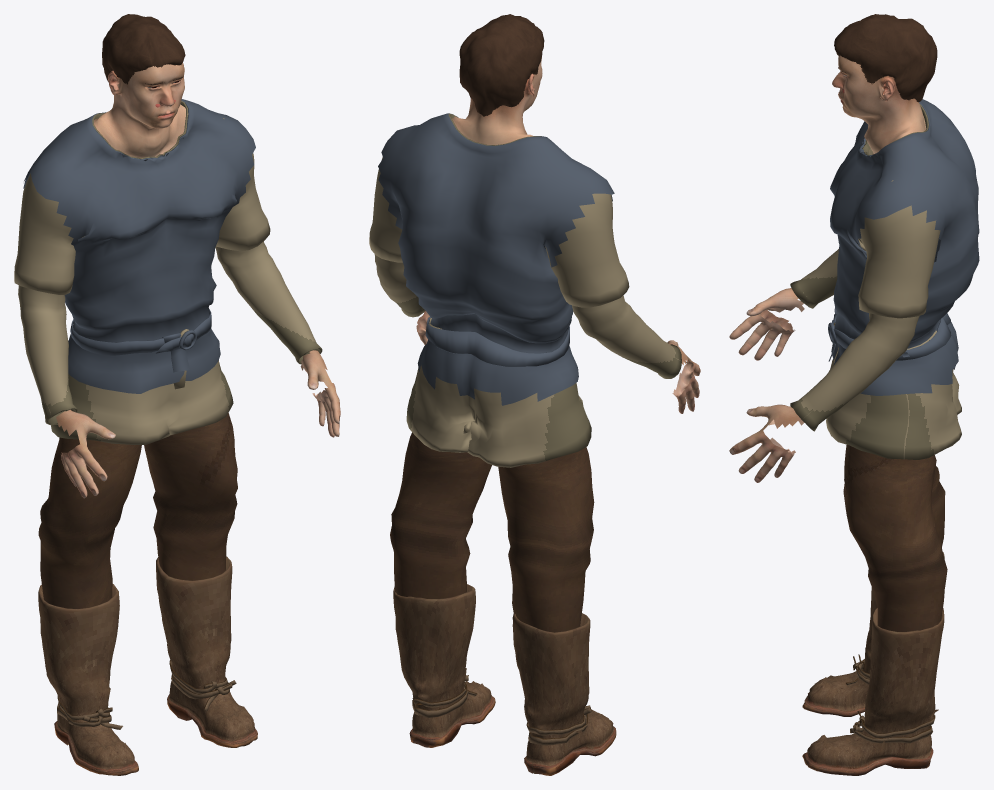
Rendered from kest-work-vest.glb.
The picture shows the model from 3 angles, left to right: view 1: azimuth 30°, elevation 25°; view 2: azimuth 150°, elevation 25°; view 3: azimuth 270°, elevation 25°; orthographic projection.
Parts seen in each view (by area): view 1: kest-work-vest runtime mesh; view 2: kest-work-vest runtime mesh; view 3: kest-work-vest runtime mesh.
Boxes of the visible parts, box(x1,y1,x2,y2) form: kest-work-vest runtime mesh: box(14, 14, 340, 775); kest-work-vest runtime mesh: box(369, 14, 700, 775); kest-work-vest runtime mesh: box(729, 14, 979, 775).
Size of the model in its own units: 0.745 by 1.85 by 0.5834.
Materials: 8 (7 with a texture image).
